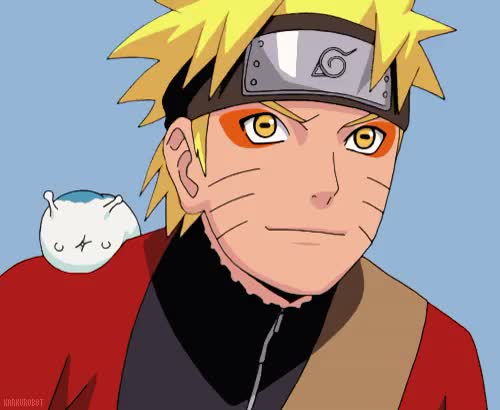naruto: (159, 12, 415, 303)
